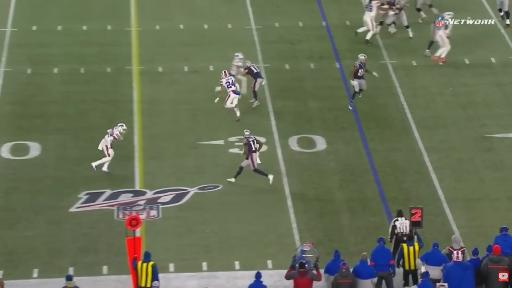Helmet: (453, 250, 463, 261), (116, 123, 127, 132), (358, 54, 367, 62), (243, 129, 251, 138), (443, 12, 453, 19), (396, 0, 405, 7), (222, 70, 229, 78), (235, 53, 243, 59), (117, 123, 126, 128), (107, 129, 113, 135), (245, 61, 251, 66), (369, 0, 379, 2)
Jersey: (98, 128, 122, 156), (431, 22, 451, 38), (245, 65, 262, 80), (365, 0, 379, 18), (244, 136, 258, 154), (221, 76, 236, 92), (387, 0, 404, 14), (231, 58, 243, 75), (354, 61, 365, 79), (106, 128, 121, 141)
Player: (228, 130, 273, 183), (92, 124, 126, 172), (349, 54, 378, 109), (356, 0, 387, 44), (431, 12, 453, 63), (386, 0, 412, 38), (221, 71, 240, 120), (244, 61, 264, 107), (231, 53, 246, 94), (416, 0, 438, 22), (424, 22, 436, 56), (497, 0, 510, 27)
